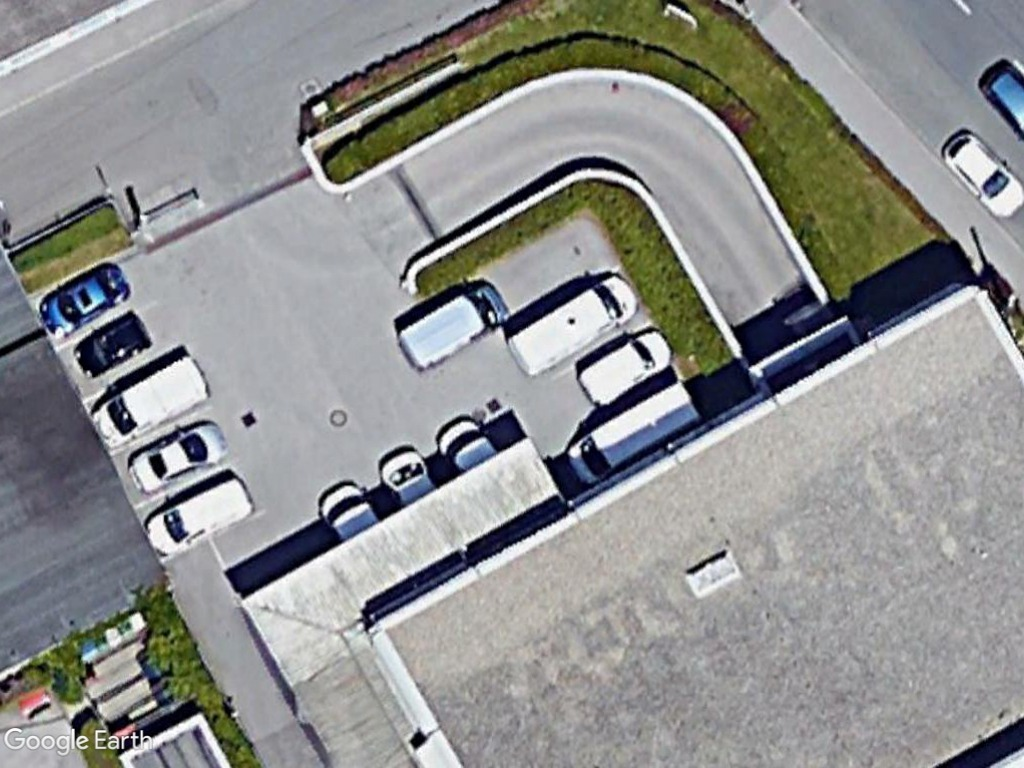car: (122, 407, 226, 494), (574, 321, 677, 408), (35, 254, 134, 340), (937, 127, 1024, 221), (69, 303, 152, 384)
van: (506, 261, 645, 384), (562, 373, 705, 490), (92, 344, 213, 452), (395, 270, 515, 373), (144, 467, 257, 562)
